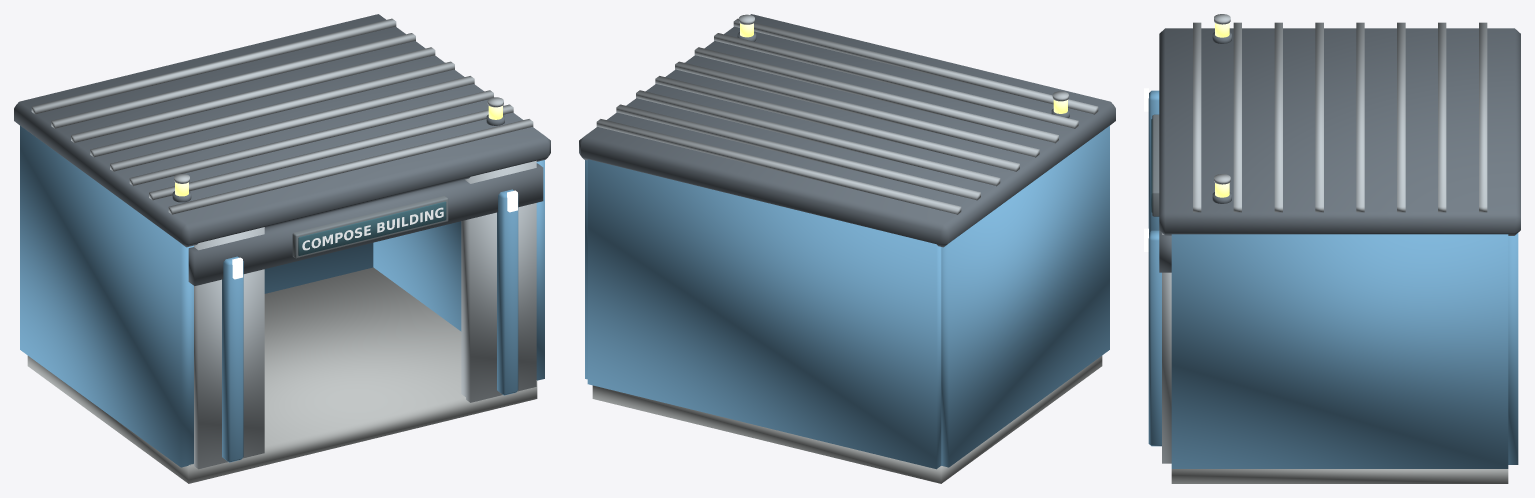
File: compose_building_enhanced.glb
The picture shows the model from 3 angles, left to right: view 1: azimuth 30°, elevation 25°; view 2: azimuth 150°, elevation 25°; view 3: azimuth 270°, elevation 25°; orthographic projection. The views are drawn at different scales.
Parts seen in each view (by area): view 1: Wall_blue_legacy_1, Roof_dark_legacy_2, Foundation_concrete_legacy_0, RoofRib_steel_legacy_12, FrontFrame_steel_legacy_3, Header_dark_legacy_4, PortalTrim_blue_legacy_14, SignPlate_glass, ScreenMount_frame, TypeLabel_white; view 2: Wall_blue_legacy_1, Roof_dark_legacy_2, RoofRib_steel_legacy_12, Foundation_concrete_legacy_0; view 3: Wall_blue_legacy_1, Roof_dark_legacy_2, RoofRib_steel_legacy_12, Foundation_concrete_legacy_0, PortalTrim_blue_legacy_14, FrontFrame_steel_legacy_3, ScreenMount_frame, Header_dark_legacy_4, StatusLight_warn_legacy_10.
Boxes of the visible parts, left/top/right/bottom form: Wall_blue_legacy_1: left=20, top=125, right=544, bottom=467; Roof_dark_legacy_2: left=14, top=14, right=550, bottom=247; Foundation_concrete_legacy_0: left=27, top=267, right=537, bottom=483; RoofRib_steel_legacy_12: left=31, top=18, right=533, bottom=214; FrontFrame_steel_legacy_3: left=194, top=160, right=536, bottom=469; Header_dark_legacy_4: left=188, top=163, right=543, bottom=285; PortalTrim_blue_legacy_14: left=222, top=189, right=518, bottom=462; SignPlate_glass: left=298, top=201, right=446, bottom=255; ScreenMount_frame: left=292, top=196, right=448, bottom=258; TypeLabel_white: left=302, top=207, right=443, bottom=250; Wall_blue_legacy_1: left=585, top=125, right=1109, bottom=469; Roof_dark_legacy_2: left=579, top=14, right=1115, bottom=247; RoofRib_steel_legacy_12: left=596, top=18, right=1098, bottom=214; Foundation_concrete_legacy_0: left=592, top=356, right=1102, bottom=483; Wall_blue_legacy_1: left=1171, top=233, right=1518, bottom=468; Roof_dark_legacy_2: left=1159, top=28, right=1520, bottom=235; RoofRib_steel_legacy_12: left=1193, top=22, right=1487, bottom=212; Foundation_concrete_legacy_0: left=1171, top=469, right=1508, bottom=483; PortalTrim_blue_legacy_14: left=1148, top=90, right=1161, bottom=446; FrontFrame_steel_legacy_3: left=1162, top=233, right=1171, bottom=463; ScreenMount_frame: left=1152, top=114, right=1159, bottom=216; Header_dark_legacy_4: left=1159, top=230, right=1171, bottom=272; StatusLight_warn_legacy_10: left=1215, top=23, right=1229, bottom=197.
Size of the model in its own units: 5.3 by 3.9 by 4.48.
